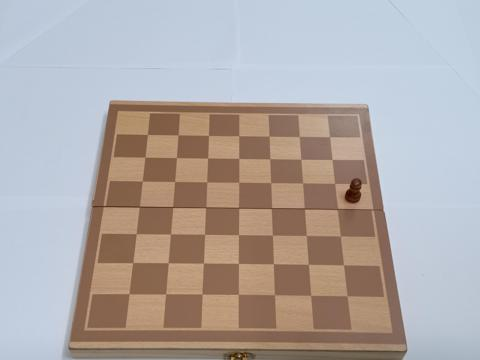xcorner: (172, 154, 182, 164), (170, 178, 180, 188), (163, 259, 173, 269), (201, 204, 211, 214), (197, 290, 207, 300), (234, 204, 244, 214), (234, 231, 244, 241), (270, 291, 280, 301), (302, 232, 312, 242), (326, 133, 336, 143), (144, 131, 153, 141), (135, 203, 144, 213), (132, 230, 141, 240), (128, 259, 137, 269), (124, 290, 134, 299), (203, 155, 213, 164), (202, 179, 212, 188), (200, 231, 209, 241), (235, 132, 244, 142), (234, 260, 243, 270), (265, 133, 275, 142), (266, 155, 275, 165), (267, 179, 276, 189), (268, 232, 278, 241), (269, 261, 279, 270), (297, 156, 307, 165), (301, 205, 310, 215), (304, 261, 314, 270), (307, 291, 316, 301), (329, 156, 338, 166), (331, 180, 340, 190), (340, 261, 349, 271), (141, 154, 150, 163), (138, 178, 147, 187), (174, 132, 183, 141), (168, 204, 177, 213), (166, 231, 175, 240), (161, 290, 170, 299), (205, 132, 214, 141), (199, 260, 208, 269), (235, 155, 244, 164), (235, 179, 244, 188), (234, 291, 243, 300), (268, 205, 277, 214), (296, 133, 305, 142), (299, 180, 308, 189), (334, 206, 343, 215), (337, 233, 346, 242), (343, 292, 352, 301)
